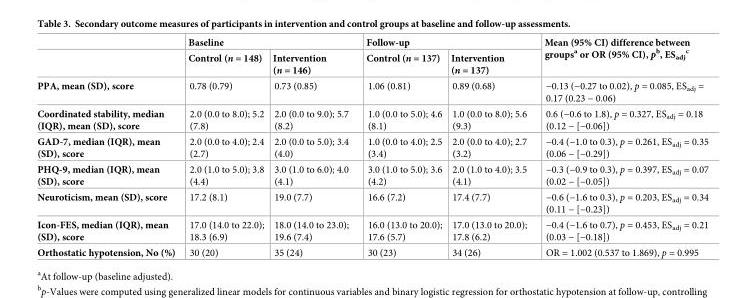table: (36, 37, 707, 258)
table column: (534, 37, 707, 258), (36, 37, 181, 258), (267, 37, 356, 258), (356, 37, 445, 258), (445, 37, 534, 258), (181, 37, 267, 258)
table column header: (36, 37, 707, 77)
table row: (36, 49, 707, 77), (36, 77, 707, 105), (36, 105, 707, 133), (36, 160, 707, 188), (36, 188, 707, 216), (36, 216, 707, 244), (36, 133, 707, 160), (36, 244, 707, 258), (36, 37, 707, 49)
table spanning cell: (534, 37, 707, 77), (356, 37, 534, 49), (181, 37, 356, 49)
